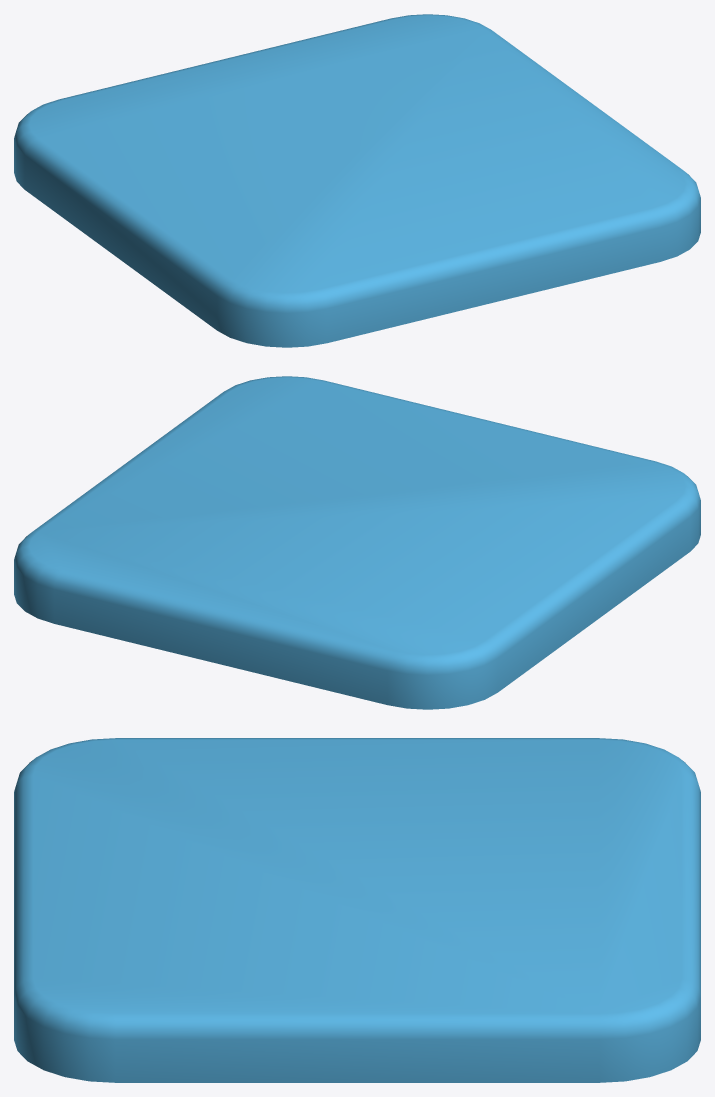
File: platform 1 .fbx
The picture shows the model from 3 angles, top to bottom: view 1: azimuth 30°, elevation 25°; view 2: azimuth 150°, elevation 25°; view 3: azimuth 270°, elevation 25°; orthographic projection. The views are drawn at different scales.
Visible parts, largest first — view 1: Cube.006; view 2: Cube.006; view 3: Cube.006.
Boxes of the visible parts, x1,y1,x2,y2 form: Cube.006: (14, 14, 700, 347); Cube.006: (14, 376, 700, 709); Cube.006: (14, 738, 700, 1082).
Size of the model in its own units: 39.21 by 3.83 by 39.21.
